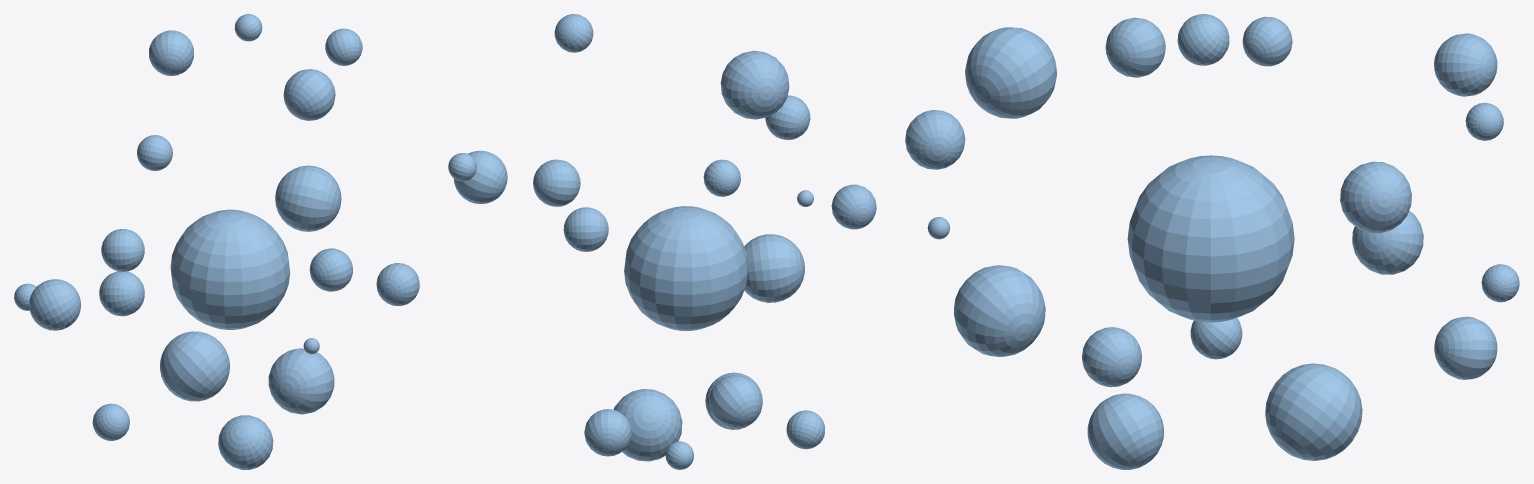
Rendered from bubble_grancapo.glb.
The picture shows the model from 3 angles, left to right: view 1: azimuth 30°, elevation 25°; view 2: azimuth 150°, elevation 25°; view 3: azimuth 270°, elevation 25°; orthographic projection. The views are drawn at different scales.
Visible parts, largest first — view 1: Bubbles, MasterBubble; view 2: Bubbles, MasterBubble; view 3: Bubbles, MasterBubble.
Boxes of the visible parts, x1,y1,x2,y2 form: Bubbles: [14, 14, 419, 469]; MasterBubble: [170, 209, 290, 329]; Bubbles: [448, 14, 876, 469]; MasterBubble: [624, 206, 748, 330]; Bubbles: [905, 14, 1519, 469]; MasterBubble: [1127, 155, 1294, 322].
Bounding box in the file's own units: 3.95 × 4.64 × 4.82.
